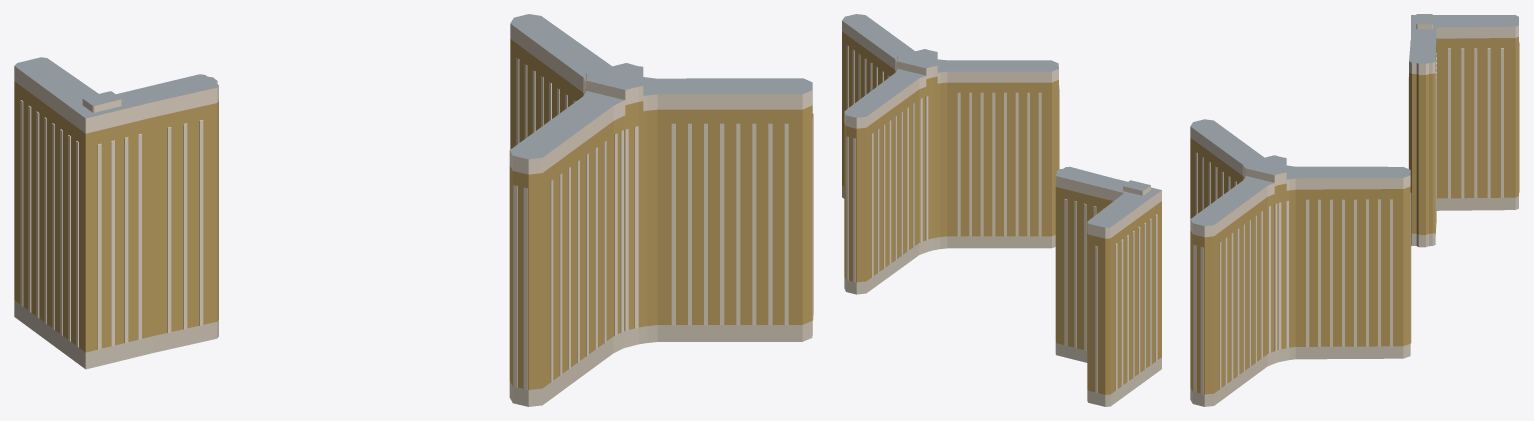
The picture shows the model from 3 angles, left to right: view 1: azimuth 30°, elevation 25°; view 2: azimuth 150°, elevation 25°; view 3: azimuth 270°, elevation 25°; orthographic projection. The views are drawn at different scales.
Visible parts, largest first — view 1: mandalay-bay; view 2: mandalay-bay; view 3: mandalay-bay.
Part boxes in pixels (left/top/right/bottom): mandalay-bay: left=14, top=14, right=813, bottom=406; mandalay-bay: left=842, top=14, right=1161, bottom=406; mandalay-bay: left=1190, top=14, right=1519, bottom=406.
Size of the model in its own units: 362 by 152 by 241.
